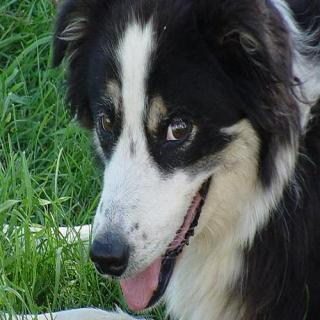dog: (43, 0, 291, 314)
nose: (83, 225, 136, 280)
